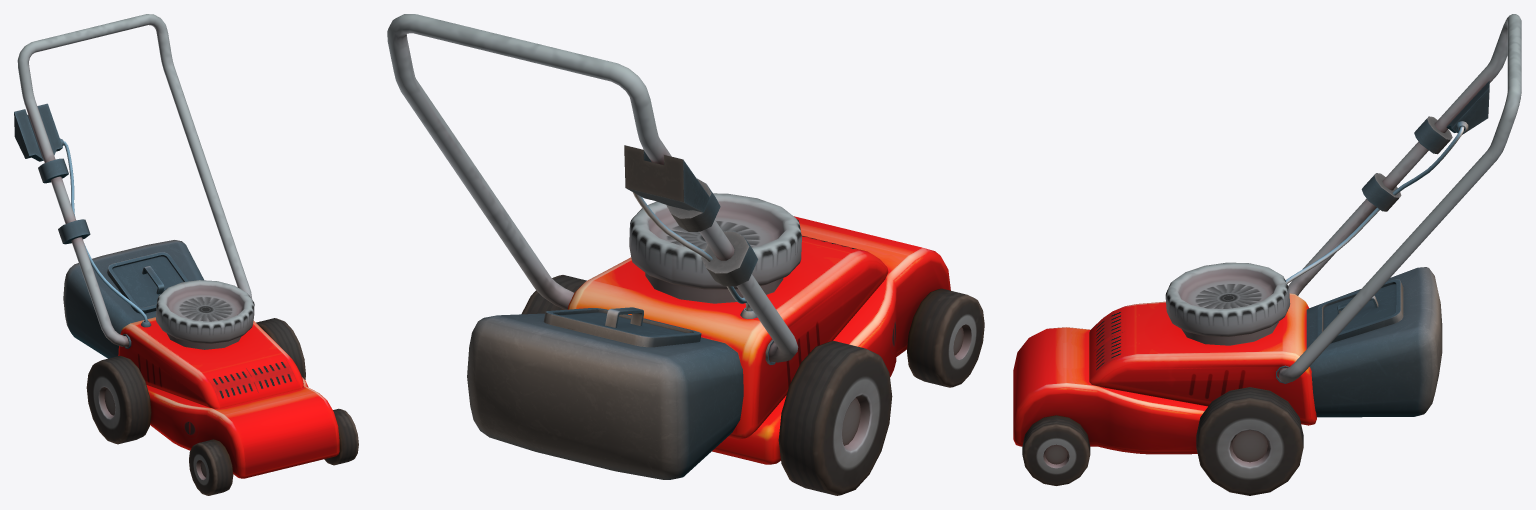
The model's file is LawnMover01.FBX.
The picture shows the model from 3 angles, left to right: view 1: azimuth 30°, elevation 25°; view 2: azimuth 150°, elevation 25°; view 3: azimuth 270°, elevation 25°; orthographic projection. The views are drawn at different scales.
Visible parts, largest first — view 1: LawnMower01; view 2: LawnMower01; view 3: LawnMower01.
Part boxes in pixels (box(x1,y1,x2,y2)): LawnMower01: box(14, 14, 358, 495); LawnMower01: box(387, 14, 984, 495); LawnMower01: box(1013, 14, 1521, 495).
Size of what is drawn, in the model's own units: 0.7614 by 1.28 by 1.5.
